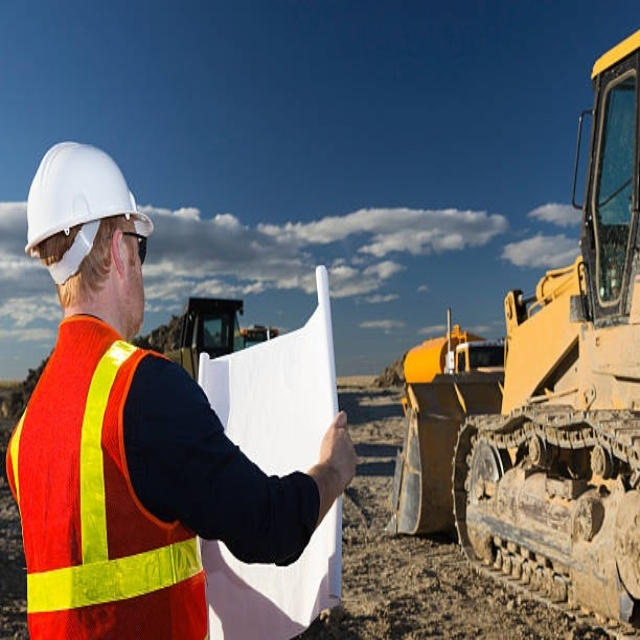Gafas: (114, 229, 147, 264)
Sin_guantes: (315, 408, 361, 499)
